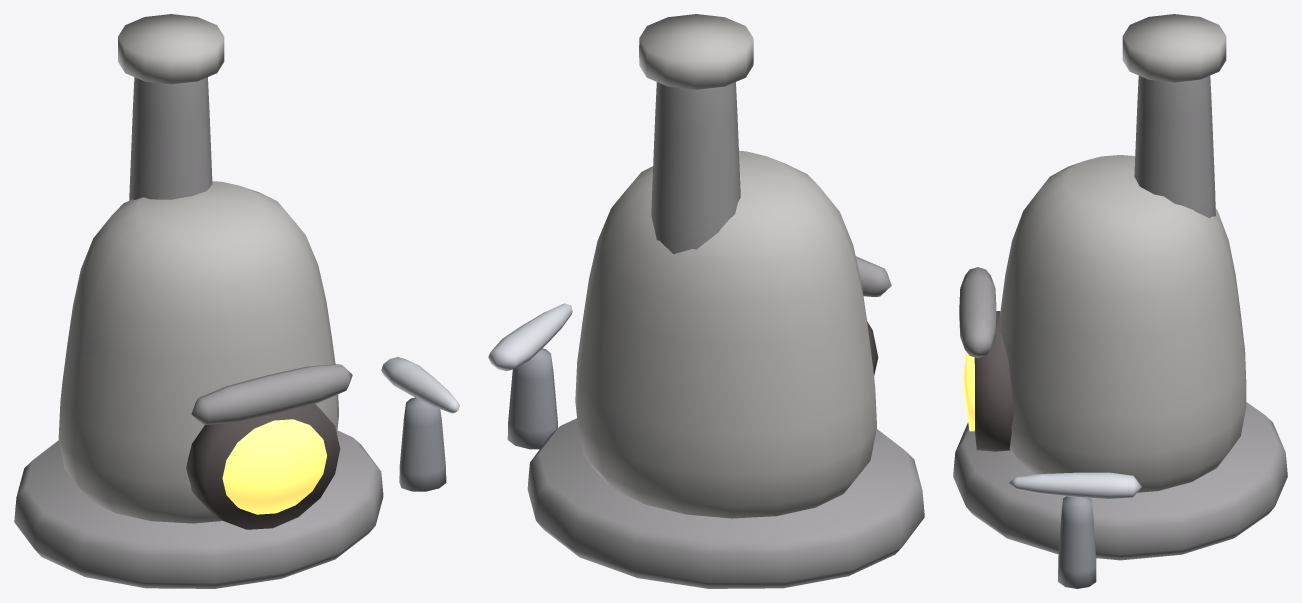
The model's file is smelter.glb.
3 views of the same model, side by side, from view 1: azimuth 30°, elevation 25°; view 2: azimuth 150°, elevation 25°; view 3: azimuth 270°, elevation 25° (orthographic). The views are drawn at different scales.
Visible parts, largest first — view 1: smelter; view 2: smelter; view 3: smelter.
Part boxes in pixels (left/top/right/bottom): smelter: left=14, top=14, right=459, bottom=588; smelter: left=488, top=14, right=924, bottom=588; smelter: left=953, top=14, right=1287, bottom=588.
Bounding box in the file's own units: 2.02 × 2.34 × 1.55.
